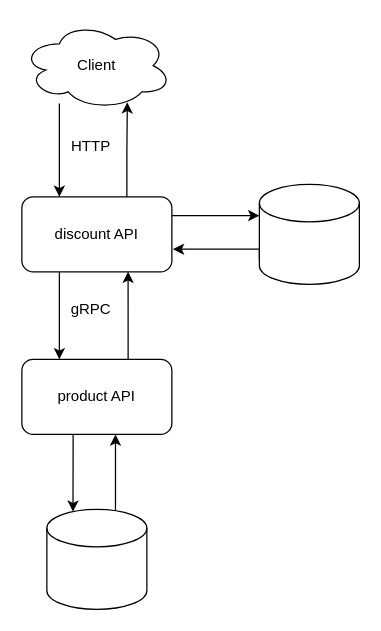
Some shapes in this 381 by 631 pixel diagram are drawn without their labels. The box of each missing label's shape, as (x1, y1, x2, y2) in pixels:
product DB: (46, 508, 147, 609)
user DB: (258, 183, 359, 284)
